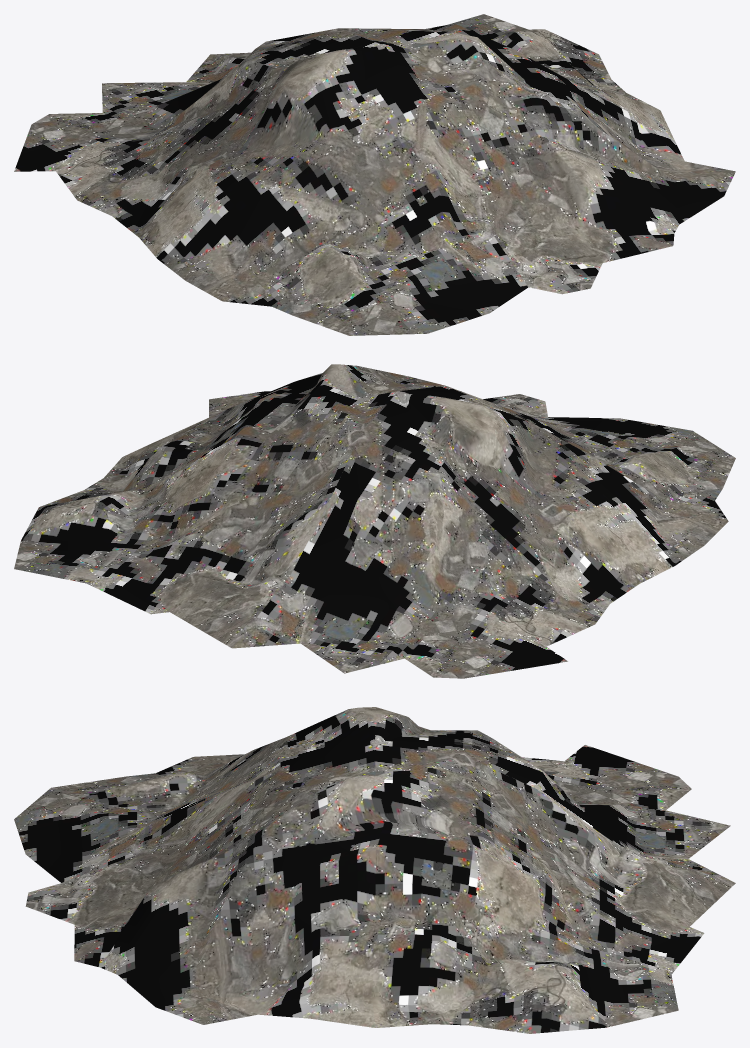
File: rubble_pile_3x3_mossy.glb
3 renders of one model, top to bottom at view 1: azimuth 30°, elevation 25°; view 2: azimuth 150°, elevation 25°; view 3: azimuth 270°, elevation 25°, orthographic. The views are drawn at different scales.
Parts seen in each view (by area): view 1: rubble_pile_3x3_mossy; view 2: rubble_pile_3x3_mossy; view 3: rubble_pile_3x3_mossy.
Boxes of the visible parts, x1,y1,x2,y2 form: rubble_pile_3x3_mossy: (14, 14, 735, 335); rubble_pile_3x3_mossy: (14, 364, 735, 678); rubble_pile_3x3_mossy: (14, 707, 735, 1033).
Bounding box in the file's own units: 4.8 × 1.15 × 5.07.
1 material, 1 textured.
